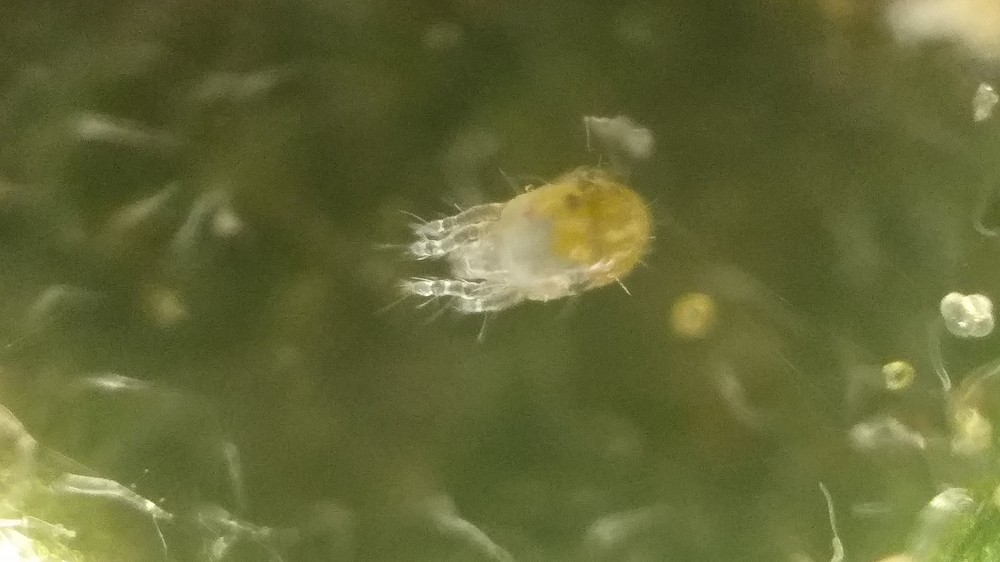Aracnido Rojo: (377, 131, 684, 361)
